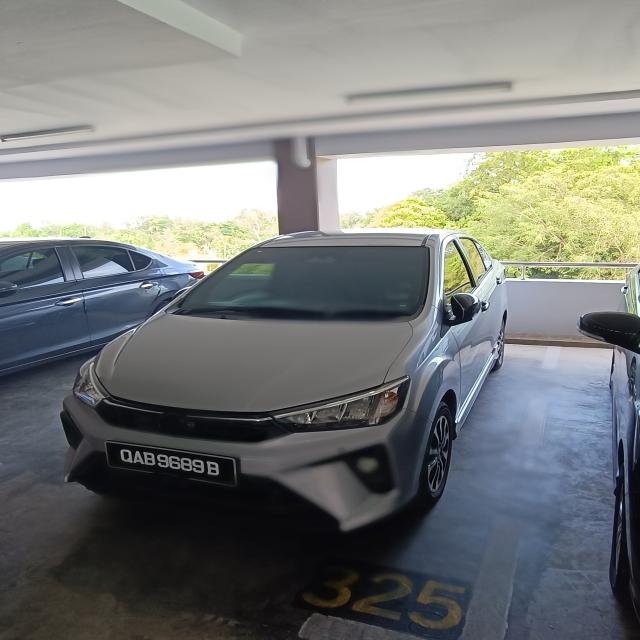PeroduaBezza: (59, 226, 510, 533)
